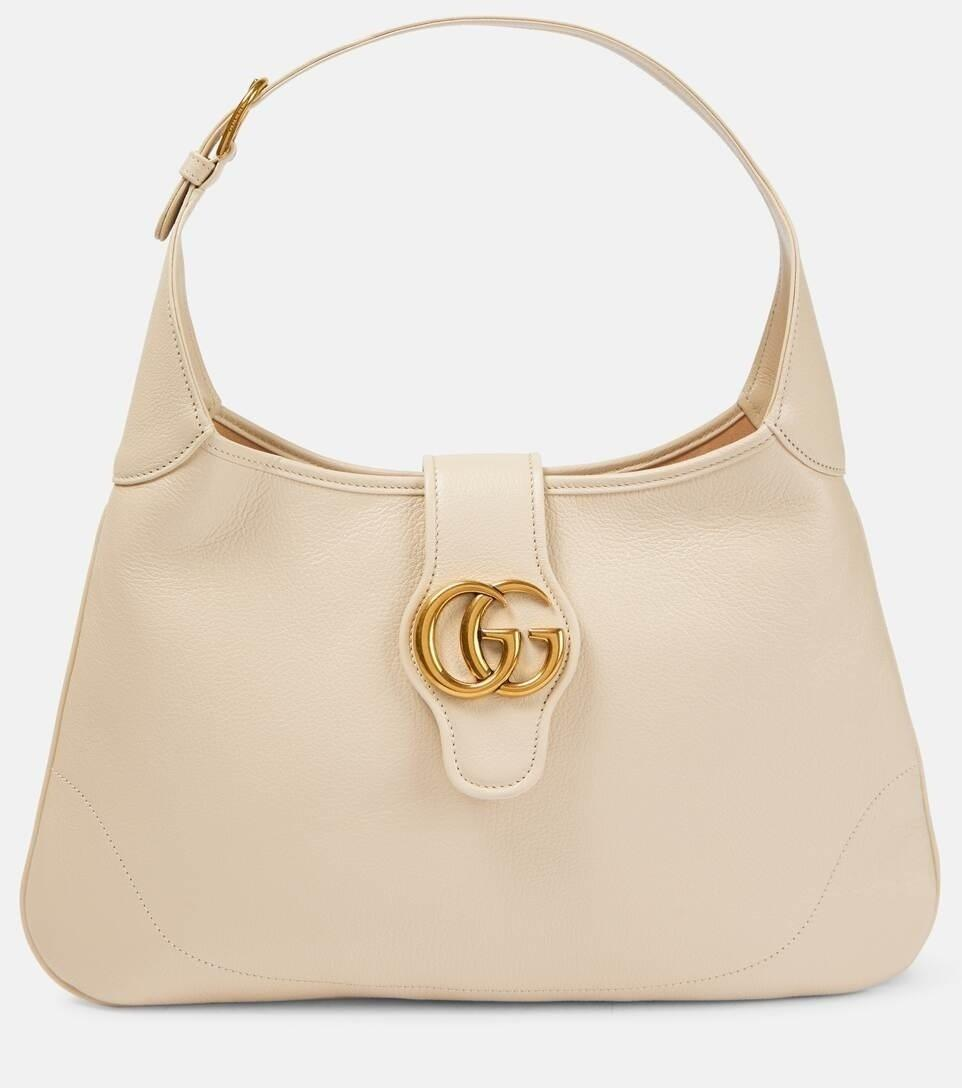GUCCI: (414, 579, 565, 697)
